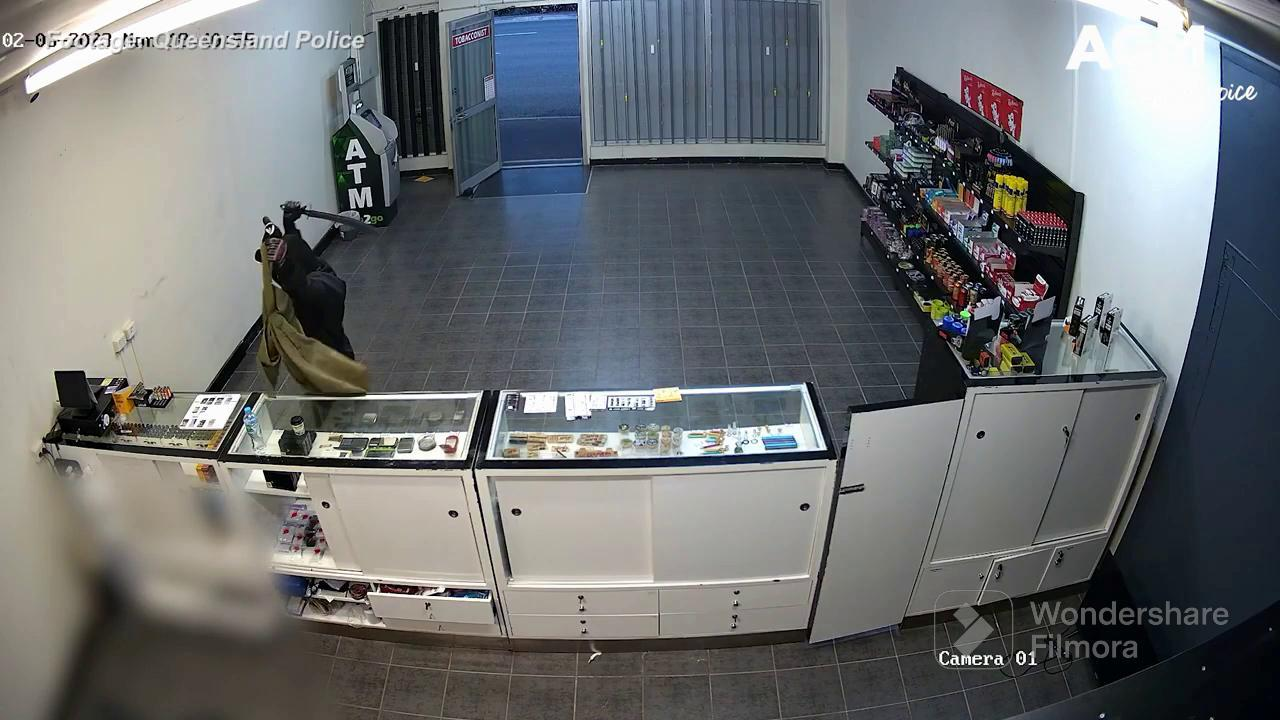melee: (289, 205, 382, 245)
